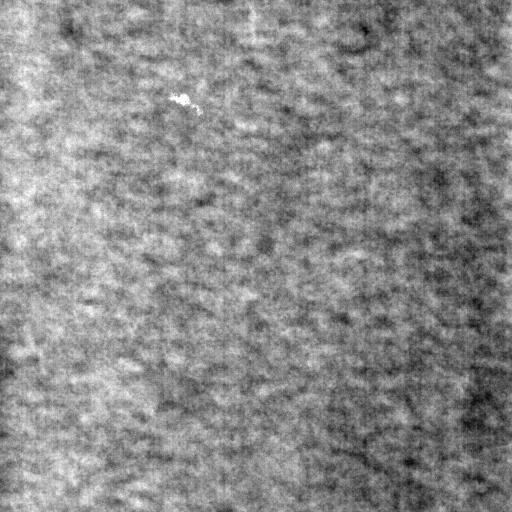DefectTypeA: (169, 93, 207, 118)
